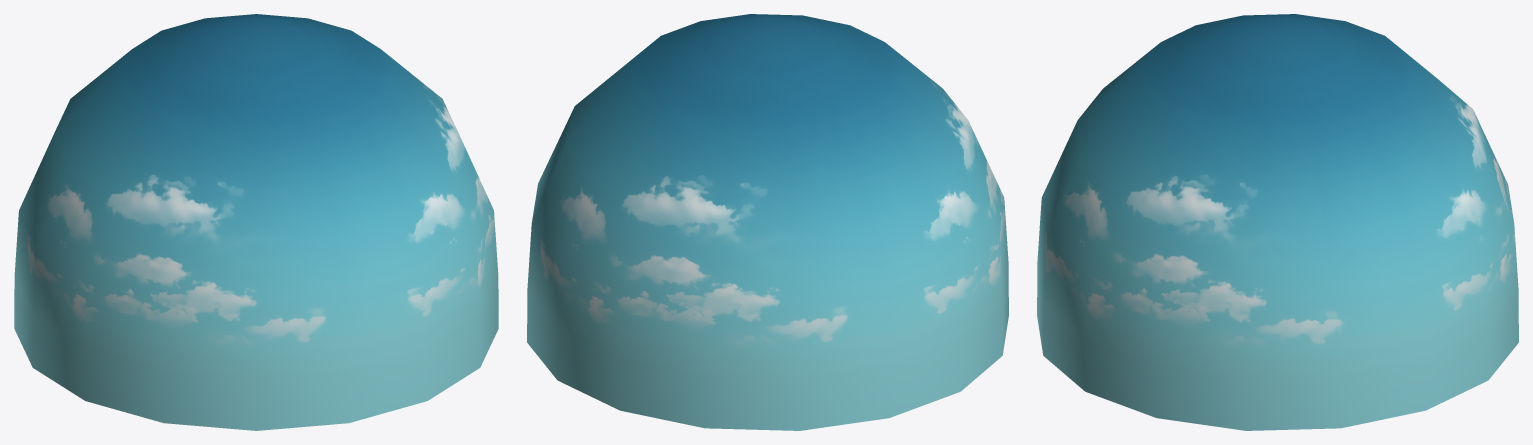
Rendered from OutdoorM_skybox.FBX.
3 renders of one model, left to right at view 1: azimuth 30°, elevation 25°; view 2: azimuth 150°, elevation 25°; view 3: azimuth 270°, elevation 25°, orthographic.
Visible parts, largest first — view 1: OutdoorM_skybox; view 2: OutdoorM_skybox; view 3: OutdoorM_skybox.
Part boxes in pixels (bbox=[...]): OutdoorM_skybox: bbox=[14, 14, 498, 430]; OutdoorM_skybox: bbox=[527, 14, 1008, 430]; OutdoorM_skybox: bbox=[1037, 14, 1518, 430].
Size of the model in its own units: 2369581 by 1604535 by 2369582.
